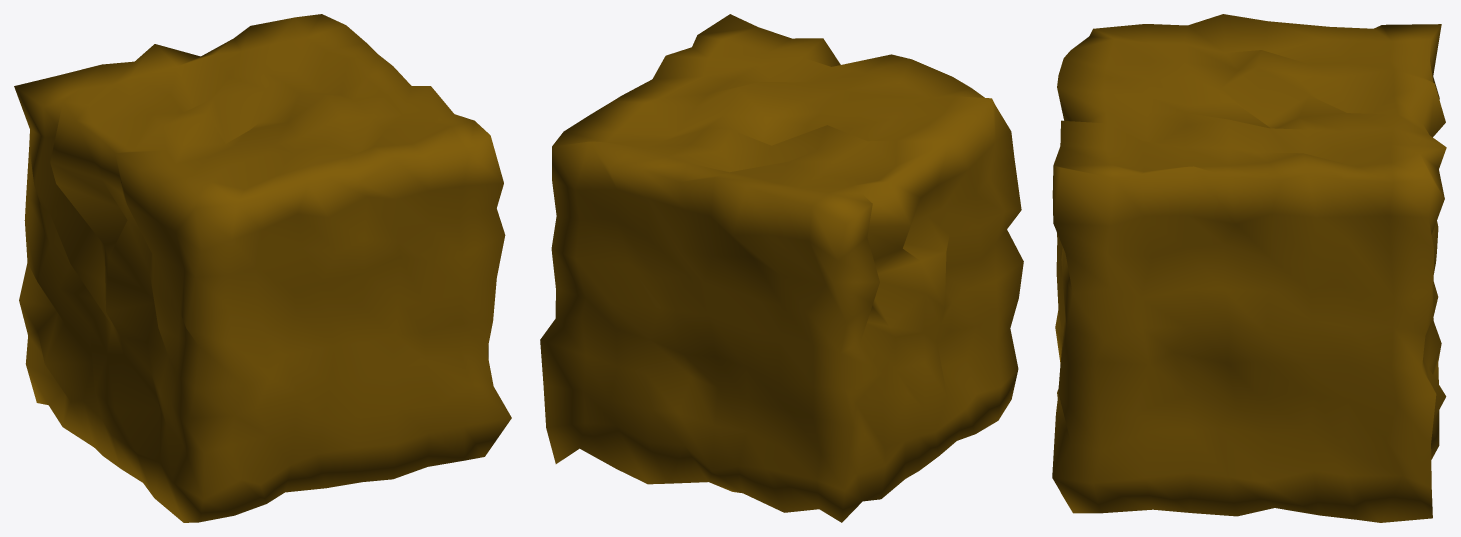
File: DirtWall.fbx
3 renders of one model, left to right at view 1: azimuth 30°, elevation 25°; view 2: azimuth 150°, elevation 25°; view 3: azimuth 270°, elevation 25°, orthographic. The views are drawn at different scales.
Parts seen in each view (by area): view 1: TreasureWall; view 2: TreasureWall; view 3: TreasureWall.
Part boxes in pixels (<box>): TreasureWall: <box>14,14,511,522</box>; TreasureWall: <box>540,14,1023,522</box>; TreasureWall: <box>1052,14,1446,522</box>.
Bounding box in the file's own units: 223 × 217 × 216.
